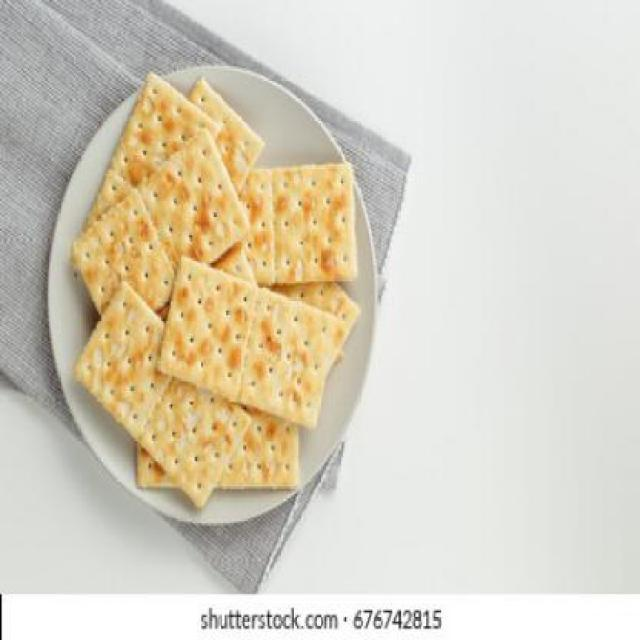Cracker packaged: (74, 280, 260, 520), (71, 134, 252, 322), (159, 252, 336, 420)
